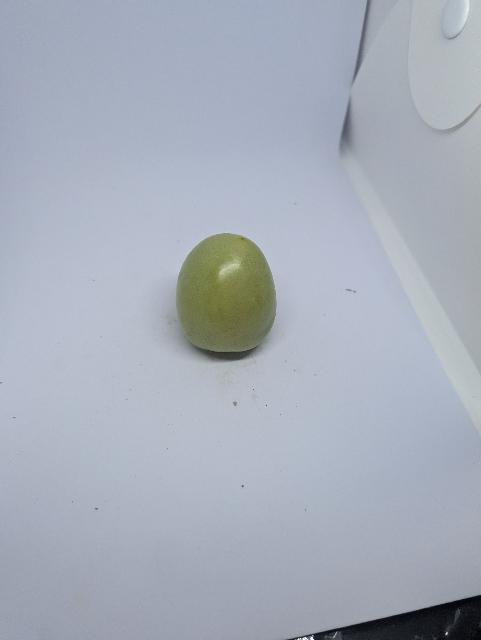green: (174, 231, 280, 356)
